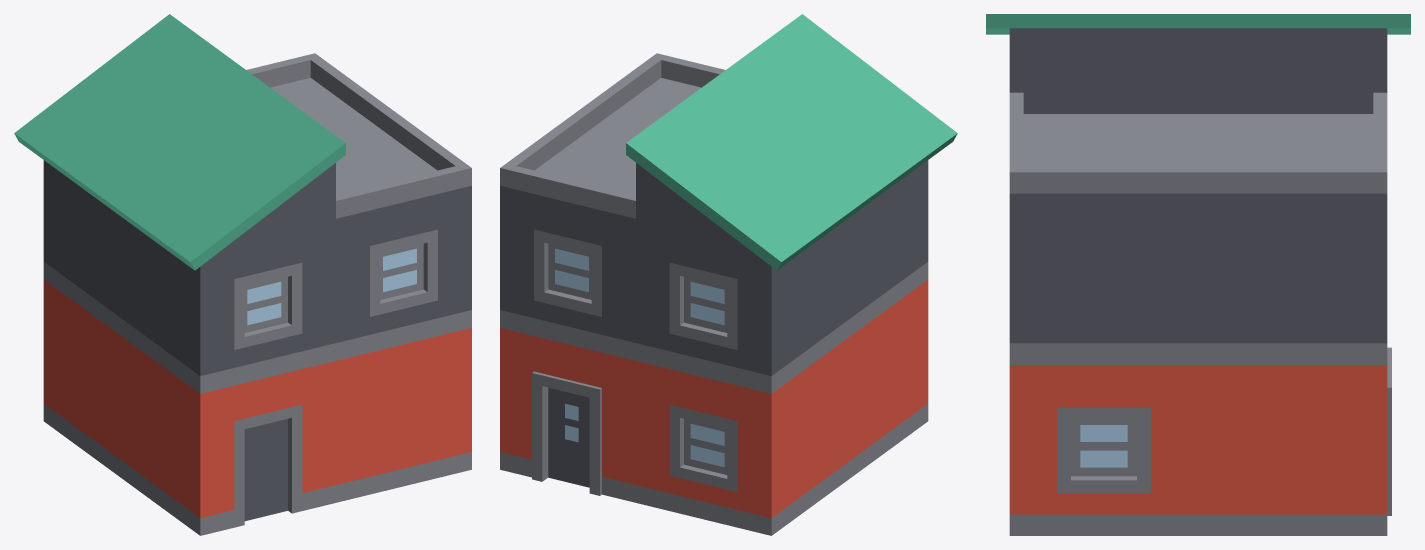
The model's file is house_type21.dae.
3 renders of one model, left to right at view 1: azimuth 30°, elevation 25°; view 2: azimuth 150°, elevation 25°; view 3: azimuth 270°, elevation 25°, orthographic. The views are drawn at different scales.
Parts seen in each view (by area): view 1: house_type21; view 2: house_type21; view 3: house_type21.
Part boxes in pixels (x1=…): house_type21: x1=14, y1=14, x2=471, y2=535; house_type21: x1=500, y1=14, x2=957, y2=535; house_type21: x1=986, y1=14, x2=1410, y2=535.
Size of the model in its own units: 0.8581 by 1.03 by 0.9.
